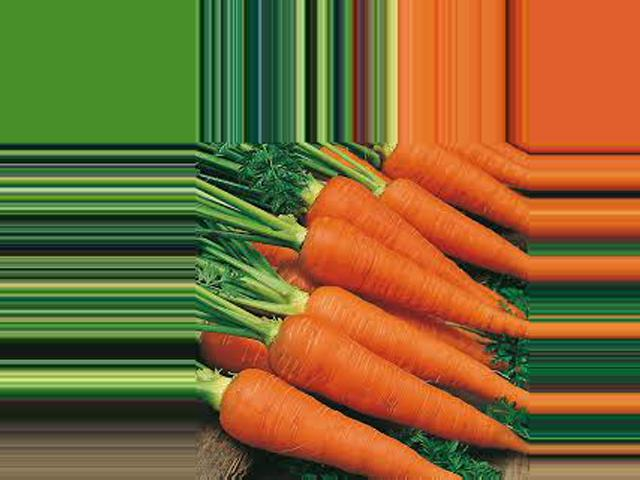carrot: (362, 166, 522, 267)
